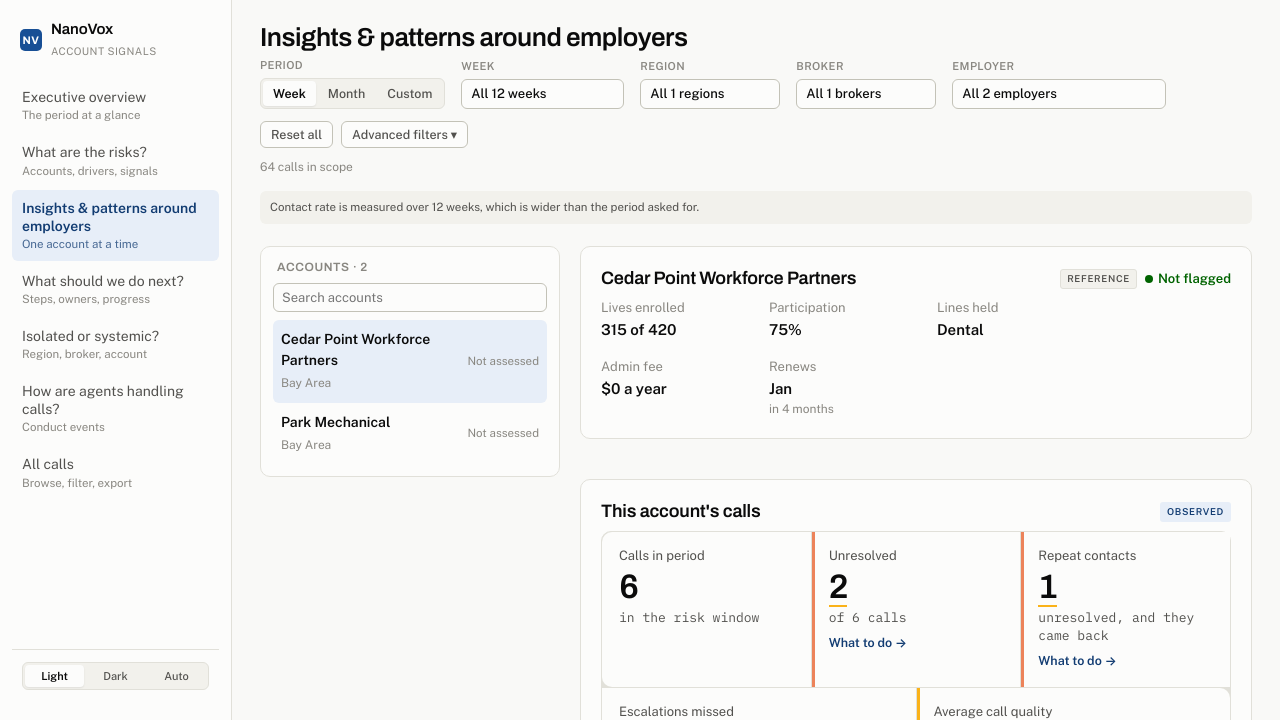
Test: /accounts — the picker › narrows the list as the reader types, and says when nothing matches
Type "Cedar" into the search field labelled "Search accounts" at (410, 298), box [273,283,547,312]
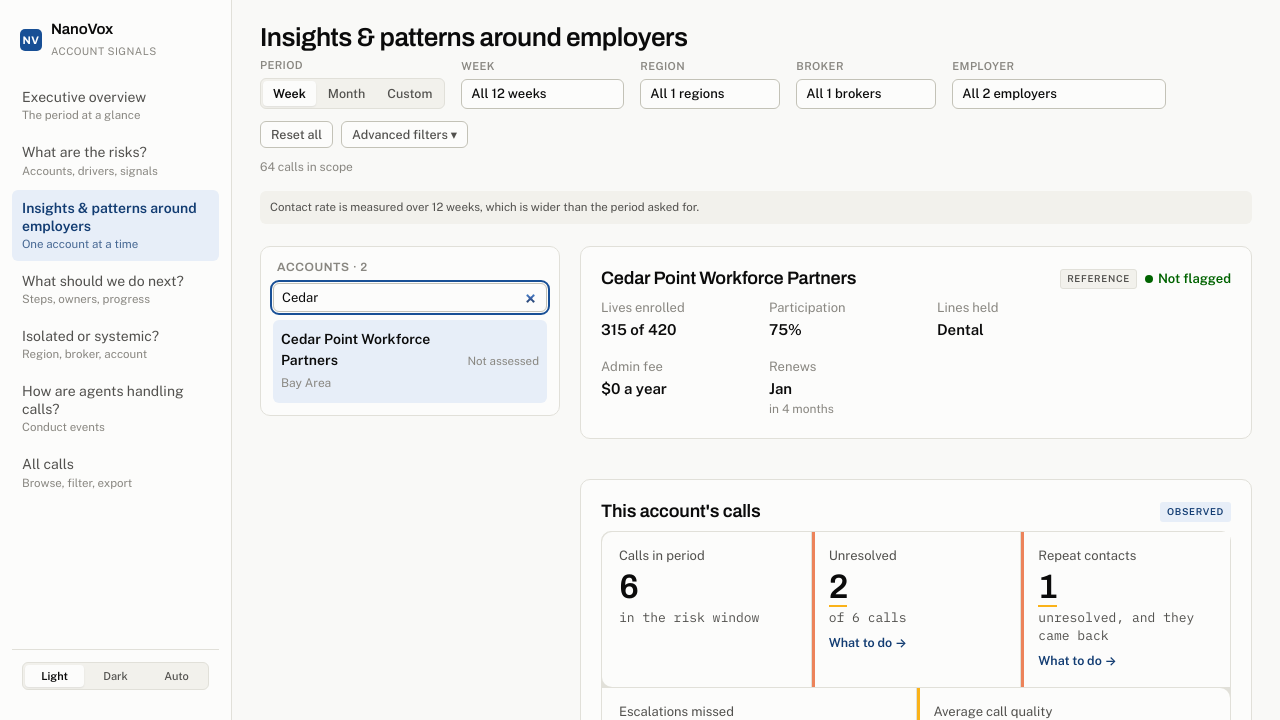
Check: the button "Park Mechanical" is gone
Replace the text in the search field named "Search accounts" with "nothing matches this" at (410, 298), box [273,283,547,312]
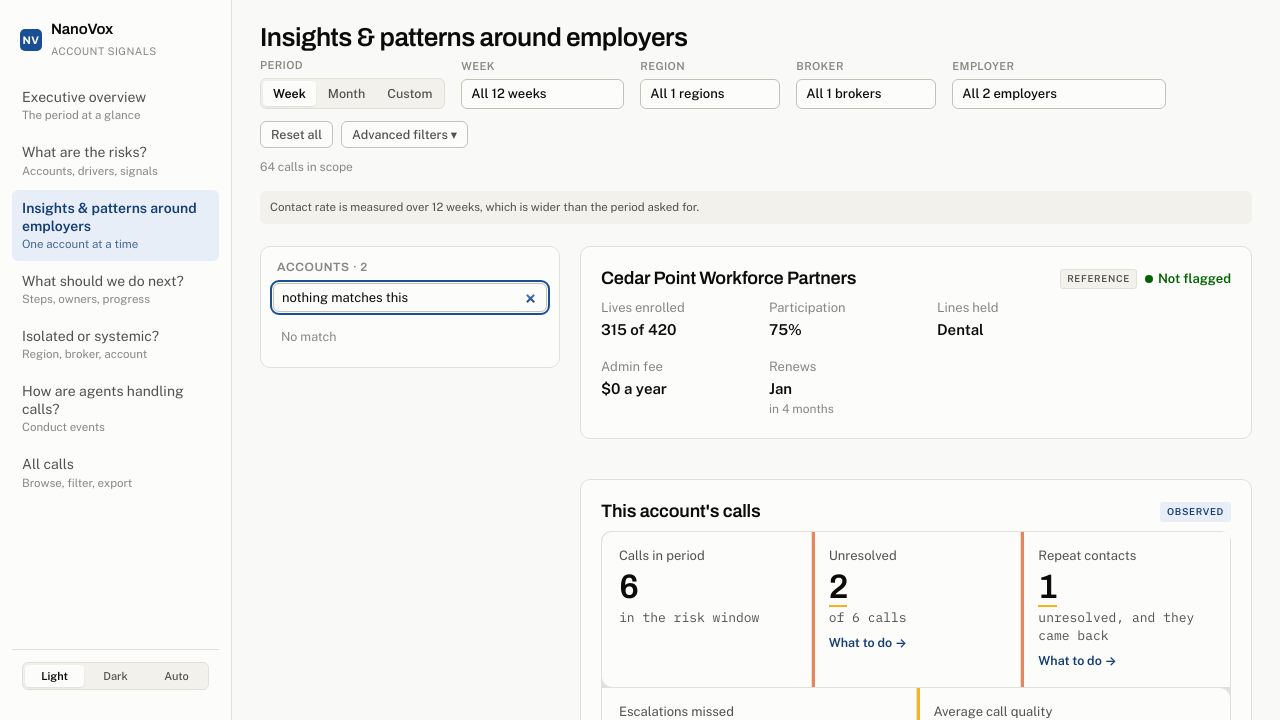
Check: the list item "No match" is shown, box [281,329,336,344]
